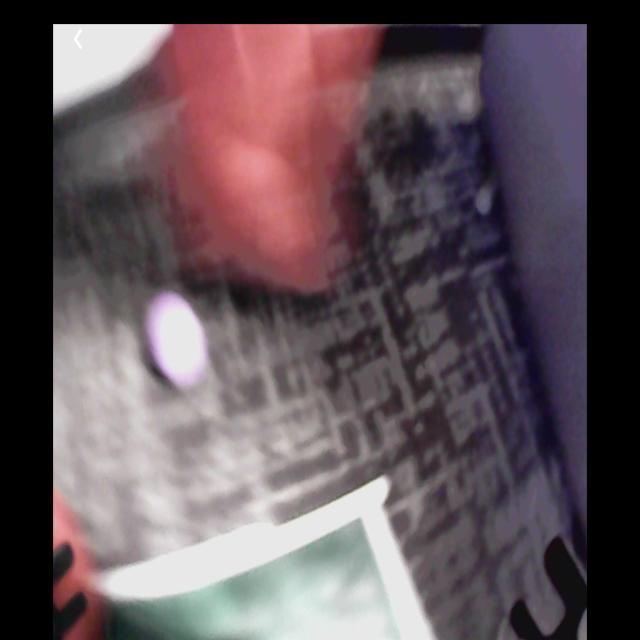ball: (147, 298, 205, 380)
